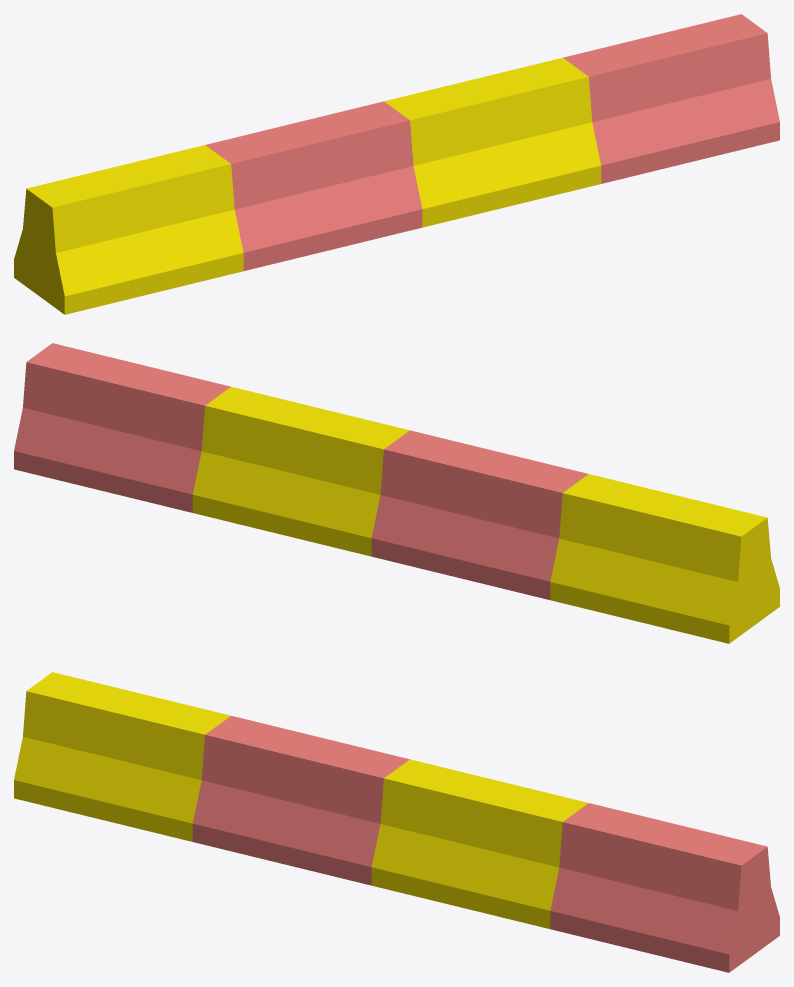
File: barrierWall.glb
3 renders of one model, top to bottom at view 1: azimuth 30°, elevation 25°; view 2: azimuth 150°, elevation 25°; view 3: azimuth 330°, elevation 25°, orthographic.
Visible parts, largest first — view 1: barrierWall(Clone); view 2: barrierWall(Clone); view 3: barrierWall(Clone).
Boxes of the visible parts, x1=… form: barrierWall(Clone): x1=14, y1=14, x2=779, y2=314; barrierWall(Clone): x1=14, y1=343, x2=779, y2=643; barrierWall(Clone): x1=14, y1=672, x2=779, y2=972.
Bounding box in the file's own units: 1 × 0.1312 × 0.123.
